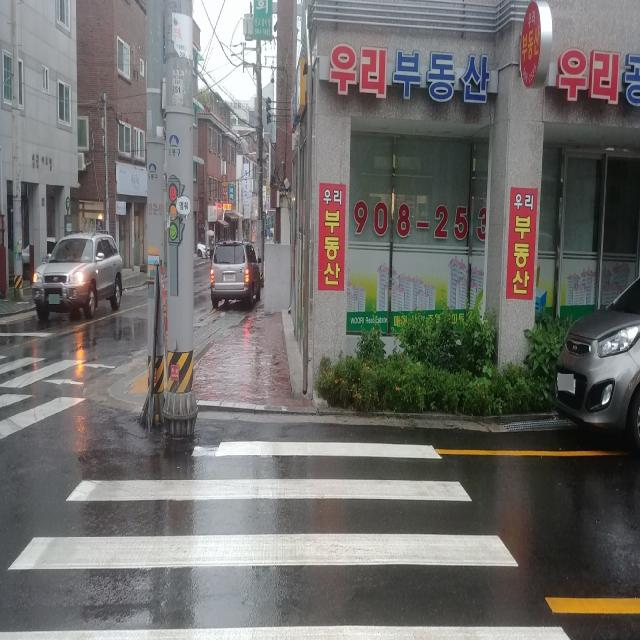횡단보도: (0, 434, 572, 640), (0, 346, 120, 433)
